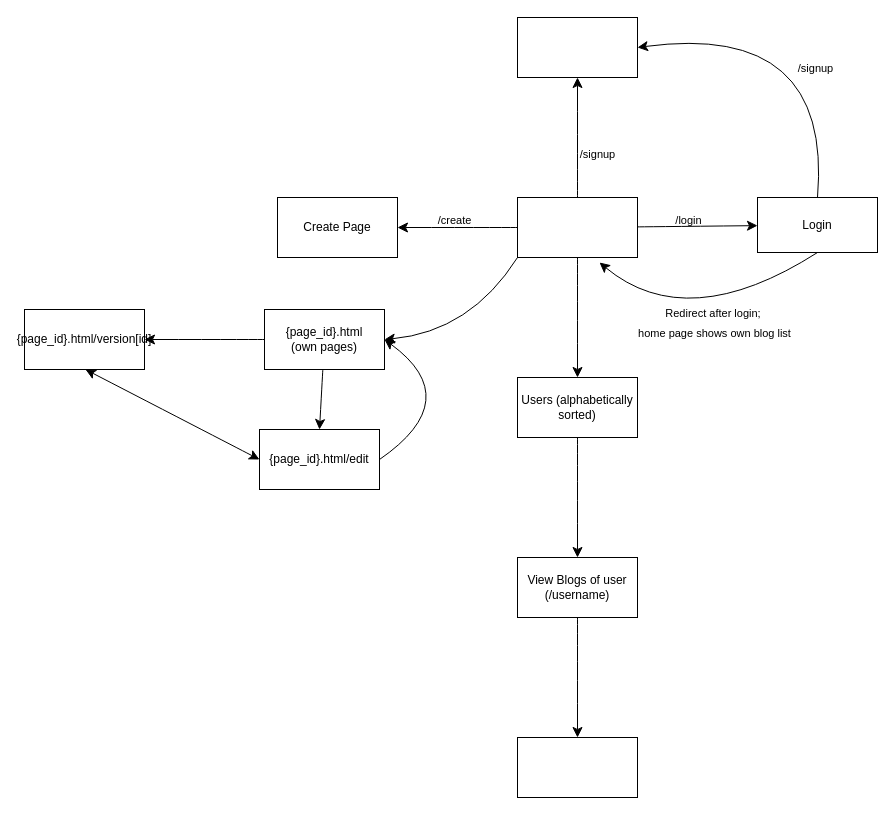
This 895x815 diagram has some shape labels left out. Each missing label, with the centre of its shape:
Home (/): the point at 577,227
Signup: the point at 577,47
View Blog (/username/{page_id}): the point at 577,767
